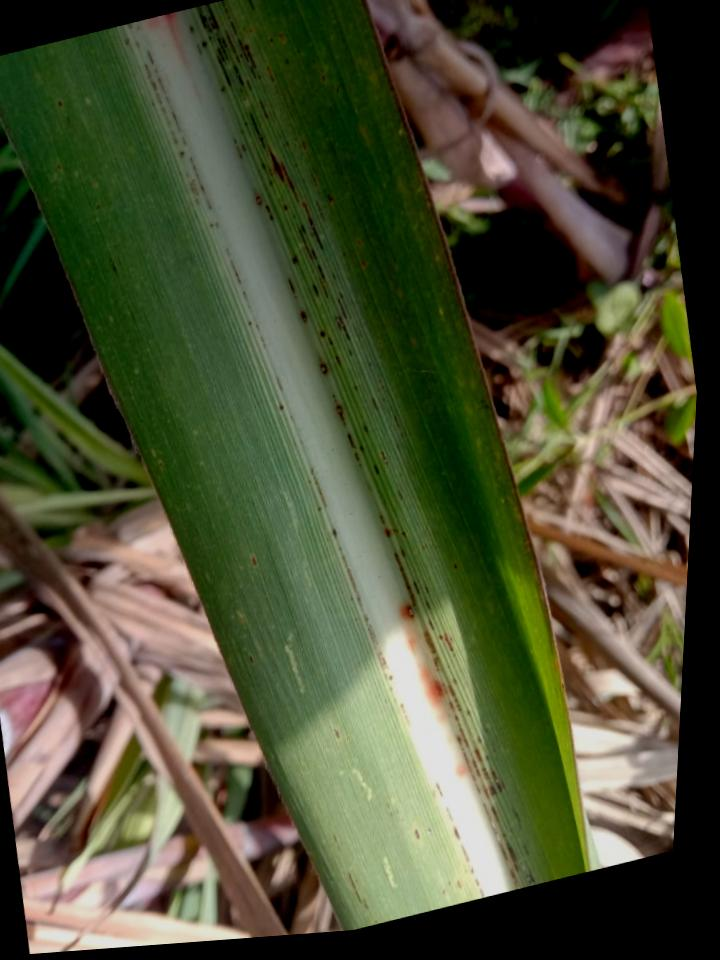RedRot: (400, 603, 468, 781), (143, 12, 201, 107)
Rust: (185, 0, 537, 889), (122, 23, 411, 732), (433, 781, 486, 898)
